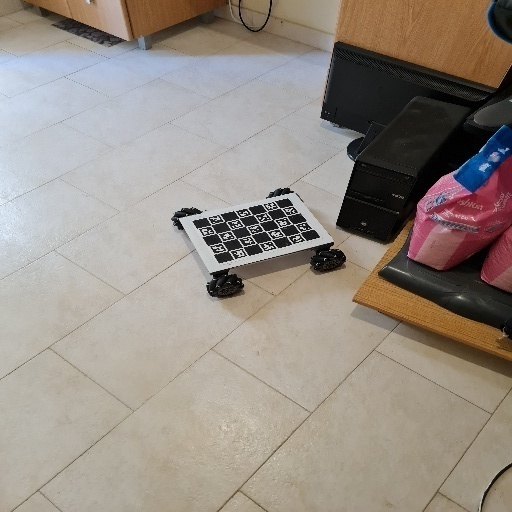Omniwheel: (172, 188, 349, 299)
